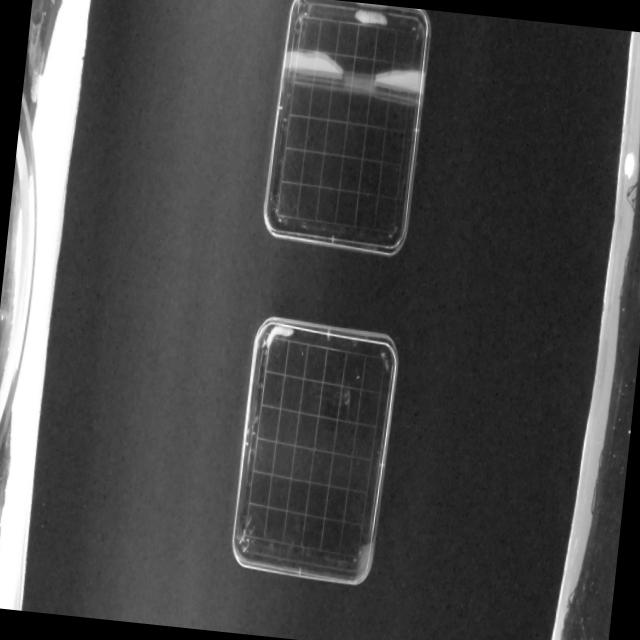larva: (354, 6, 390, 28), (264, 324, 294, 348)
